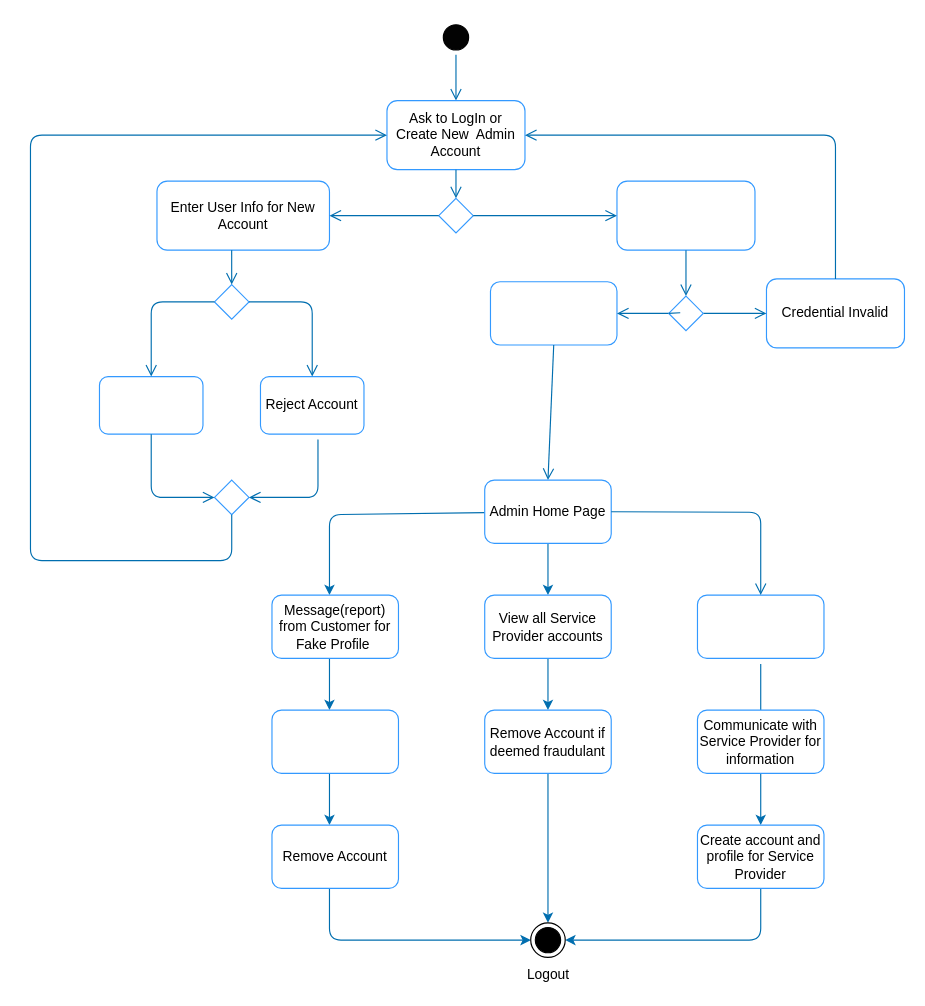
Image size: 925x1006. Some labels were removed from this diagram. The shapes that lost their labels are listed below. From the top down, each one's centre as x and y in pixels, then its label:
point 685,215: Enter User name and password
point 553,313: Credential Valid
point 150,404: Create Account
point 760,626: Notification to aid Service Provider in account creation
point 334,741: View/communicate with Suspect Service Provider
